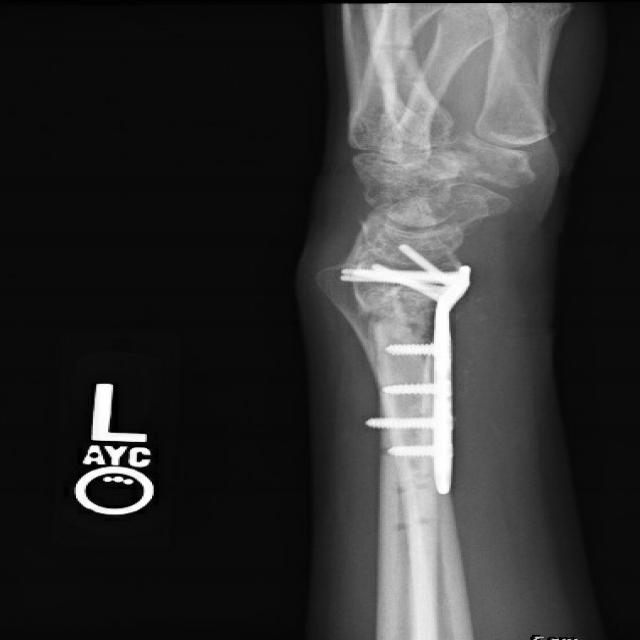x-ray: (329, 236, 505, 508)
